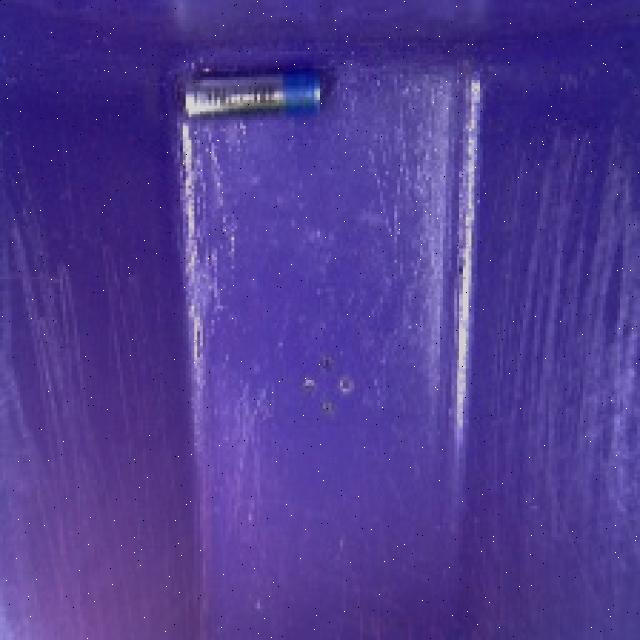battery: (171, 66, 338, 123)
